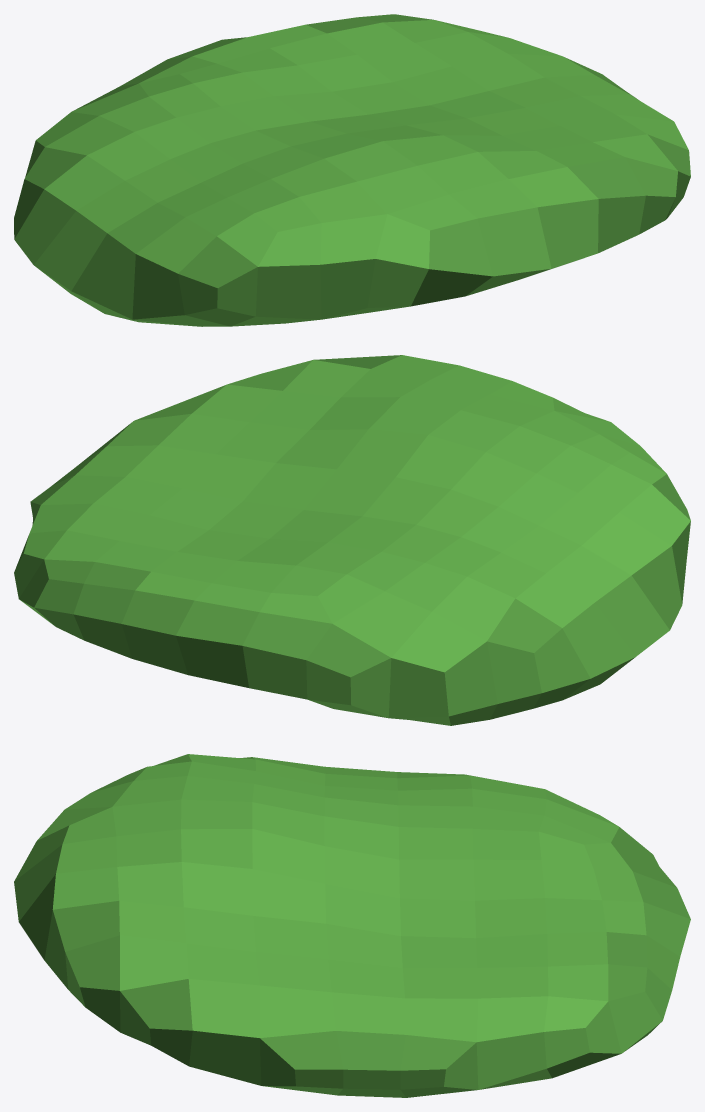
Rendered from groundgrass.fbx.
The picture shows the model from 3 angles, top to bottom: view 1: azimuth 30°, elevation 25°; view 2: azimuth 150°, elevation 25°; view 3: azimuth 270°, elevation 25°; orthographic projection. The views are drawn at different scales.
Parts seen in each view (by area): view 1: ground; view 2: ground; view 3: ground.
Boxes of the visible parts, x1,y1,x2,y2 form: ground: [14, 14, 690, 326]; ground: [14, 355, 690, 725]; ground: [14, 754, 690, 1097].
Size of the model in its own units: 62.2 by 15.23 by 58.38.
